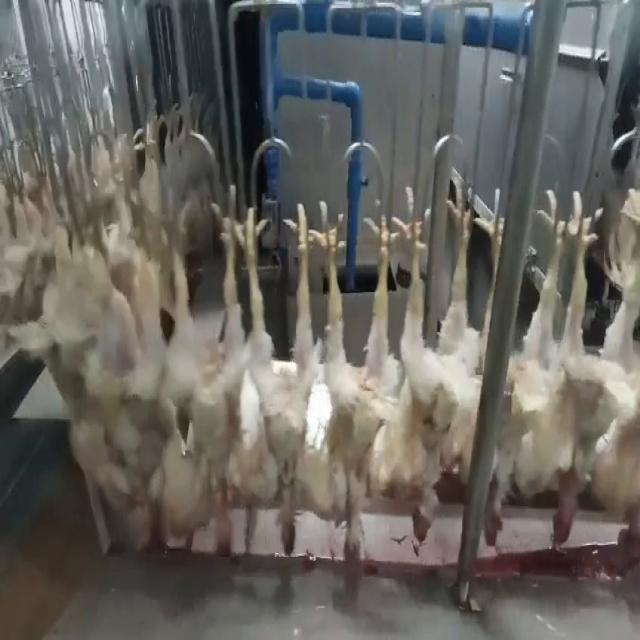chicken: (395, 182, 487, 546), (515, 197, 609, 552), (309, 195, 394, 571), (148, 204, 235, 561), (230, 192, 313, 562), (86, 207, 154, 559), (598, 185, 639, 533)
